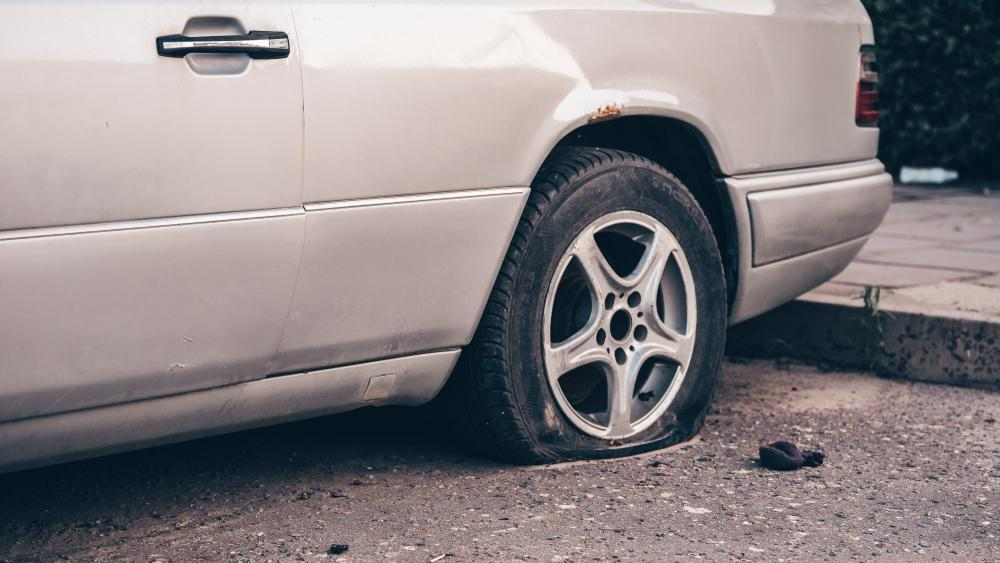tire flat: (468, 145, 728, 466)
